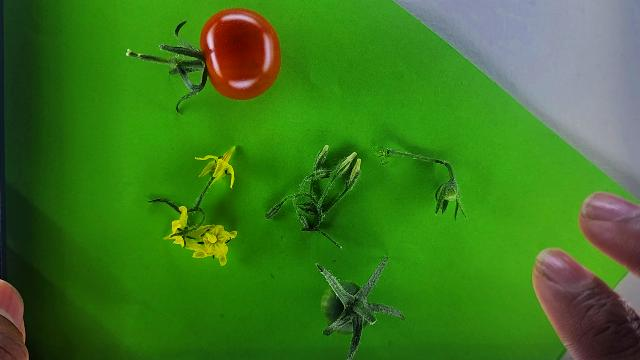Anthesis: (185, 224, 238, 267), (196, 146, 237, 189), (161, 206, 193, 249)
Flower Bud: (348, 161, 362, 190), (315, 144, 329, 167), (338, 156, 353, 174), (347, 152, 357, 164)
Fruit Bud: (444, 187, 457, 201)
Fruit Maturation: (319, 280, 359, 333)
Fully Grown: (200, 7, 283, 101)
